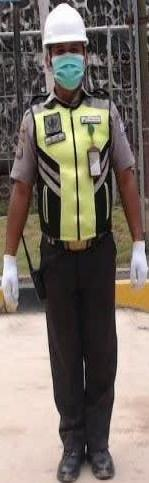boots: (57, 447, 85, 483), (87, 448, 115, 480)
gloves: (1, 252, 20, 310), (129, 240, 148, 290)
hard-hat: (41, 1, 88, 45)
vest: (6, 88, 126, 255)
